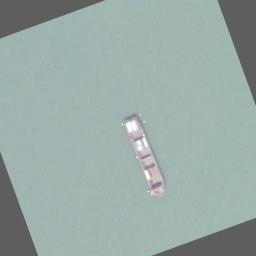boat: (120, 110, 172, 202)
